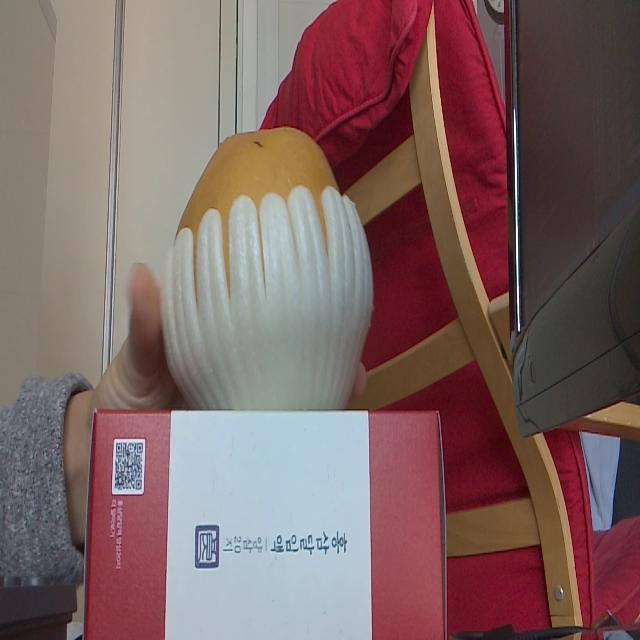pear: (158, 127, 375, 410)
